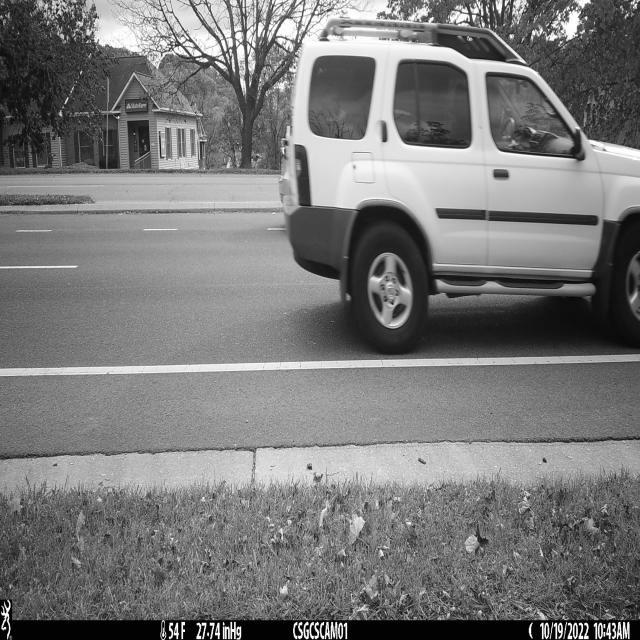SUV: (278, 19, 640, 356)
